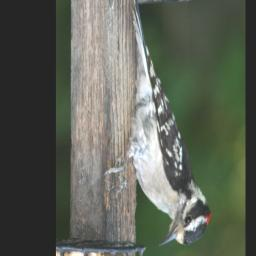Woodpecker: (104, 0, 211, 247)
